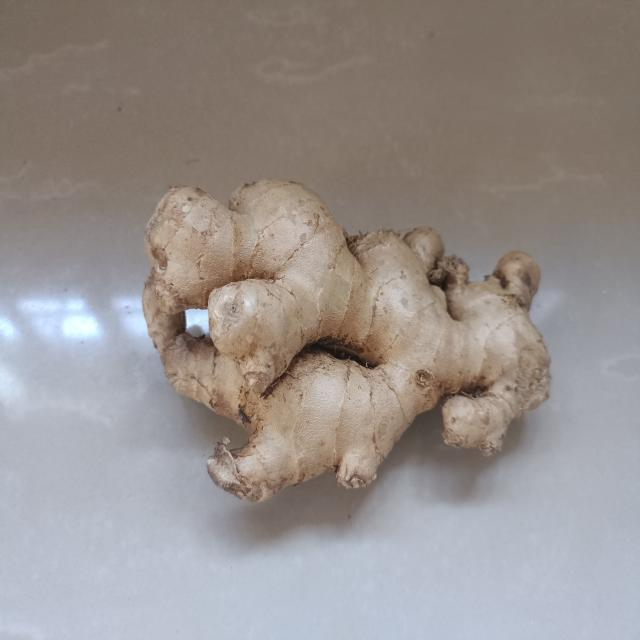ginger: (142, 161, 552, 503)
